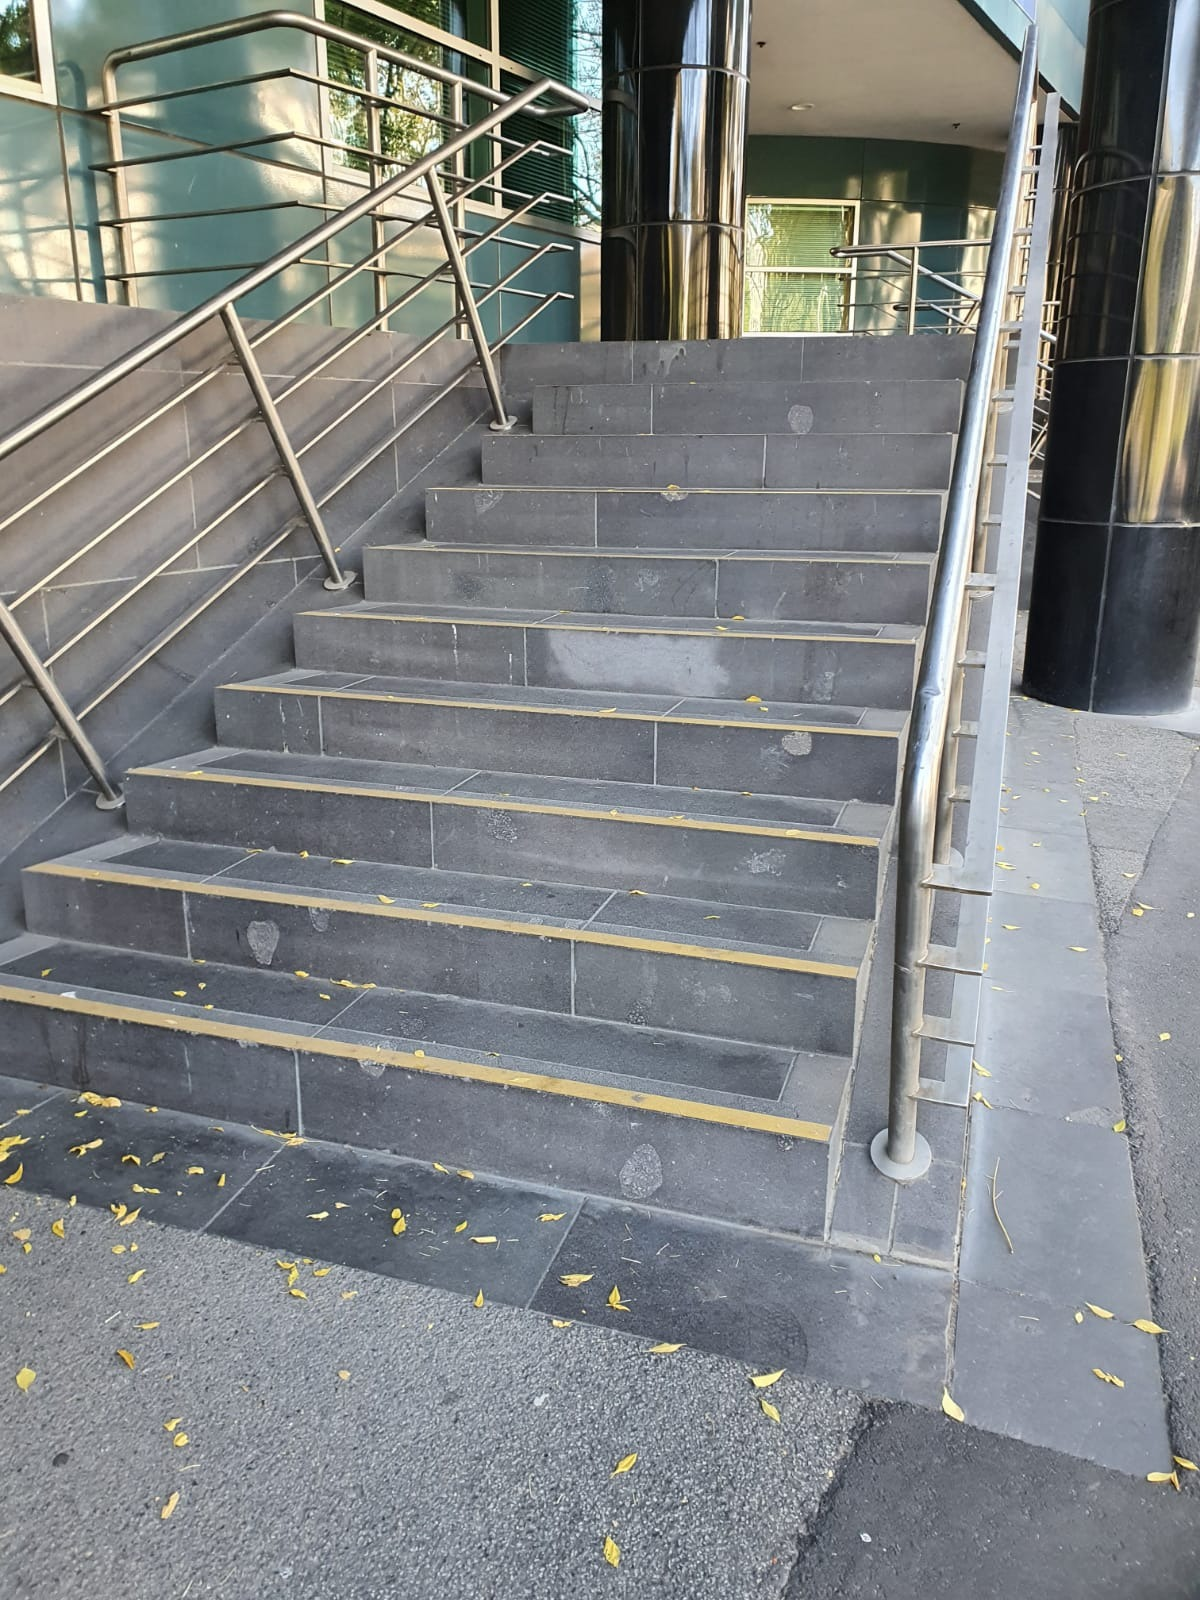upstairs: (211, 602, 896, 1327)
